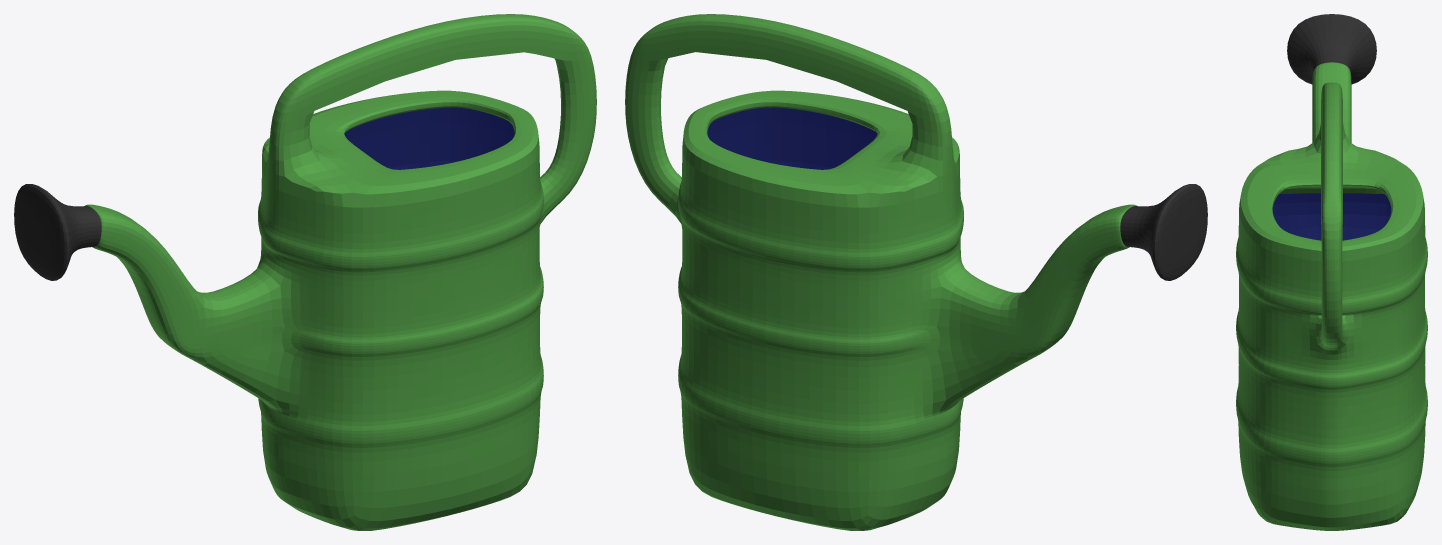
File: vattenkanna_spelprojektet.fbx
3 renders of one model, left to right at view 1: azimuth 30°, elevation 25°; view 2: azimuth 150°, elevation 25°; view 3: azimuth 270°, elevation 25°, orthographic. The views are drawn at different scales.
Visible parts, largest first — view 1: Cube; view 2: Cube; view 3: Cube.
Boxes of the visible parts, x1,y1,x2,y2 form: Cube: [14, 14, 596, 530]; Cube: [625, 14, 1207, 530]; Cube: [1236, 14, 1427, 530].
Bounding box in the file's own units: 432 × 335 × 151.
